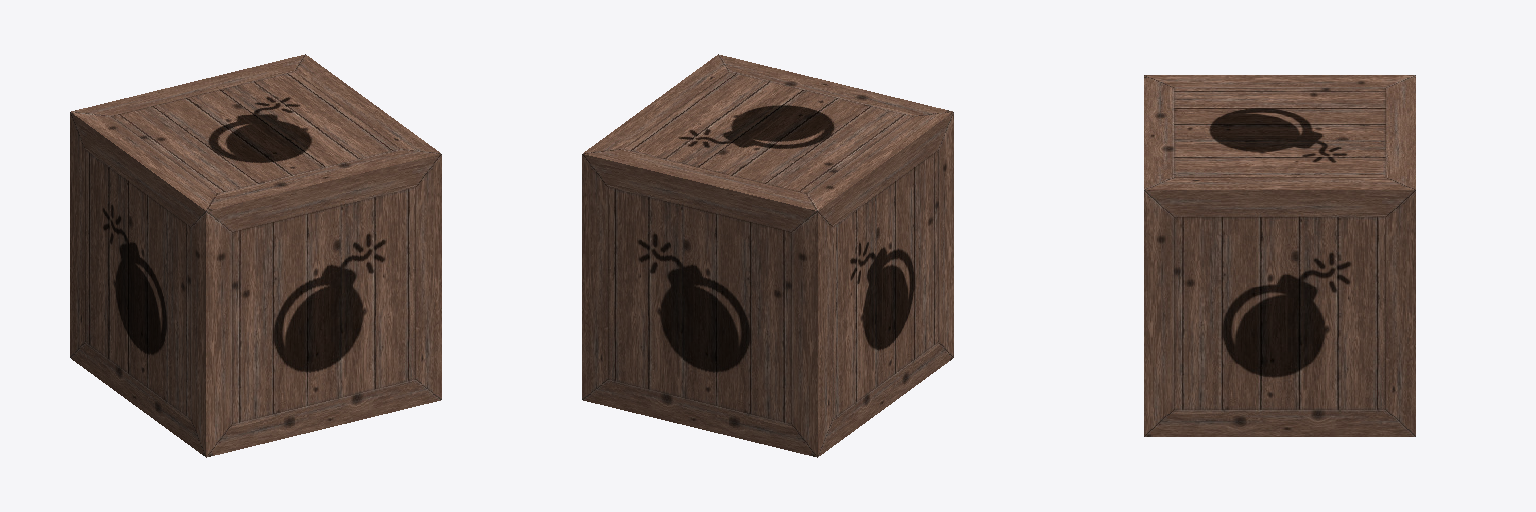
The picture shows the model from 3 angles: view 1: azimuth 30°, elevation 25°; view 2: azimuth 150°, elevation 25°; view 3: azimuth 270°, elevation 25°; orthographic projection.
Visible parts, largest first — view 1: Cube; view 2: Cube; view 3: Cube.
Boxes of the visible parts, x1=… form: Cube: x1=70, y1=54, x2=441, y2=457; Cube: x1=582, y1=54, x2=953, y2=457; Cube: x1=1144, y1=75, x2=1415, y2=436.
Bounding box in the file's own units: 1 × 1 × 1.
Materials: 1 (1 with a texture image).